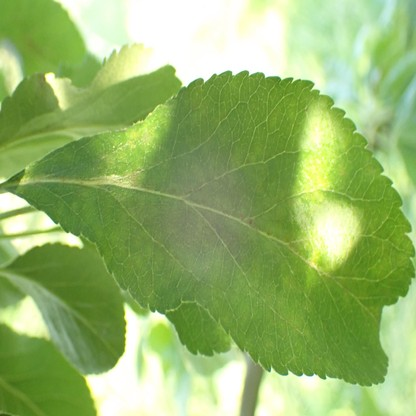scab: (126, 147, 253, 268)
